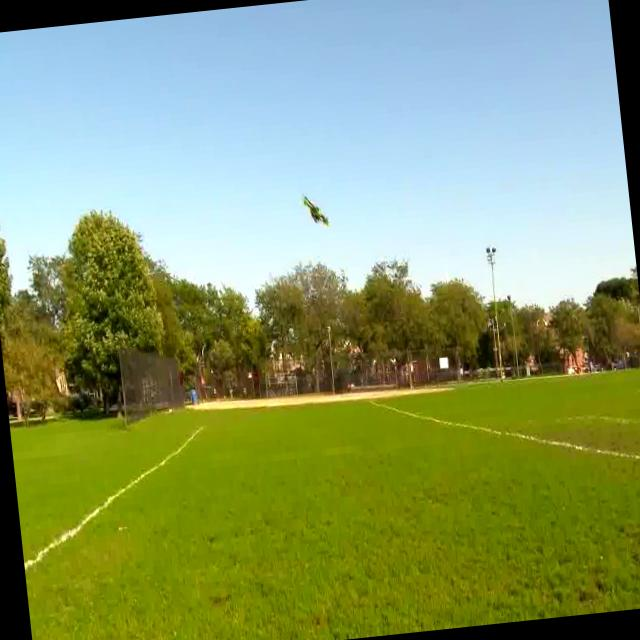drone: (297, 186, 342, 241)
